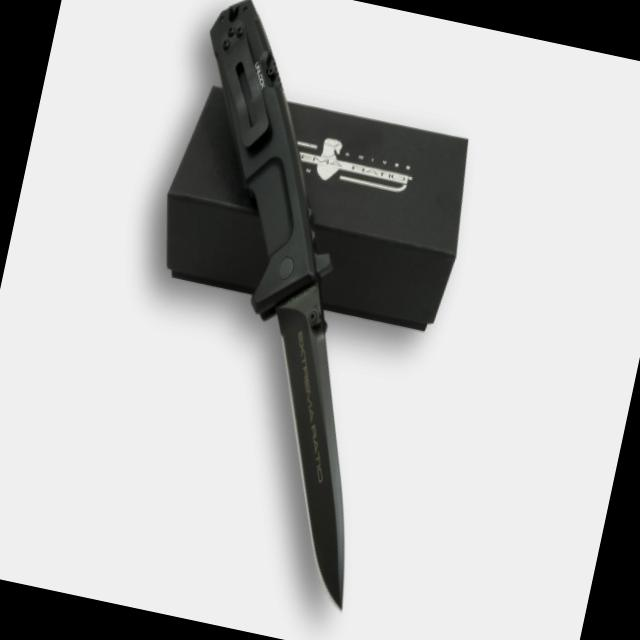knife: (182, 220, 428, 619)
